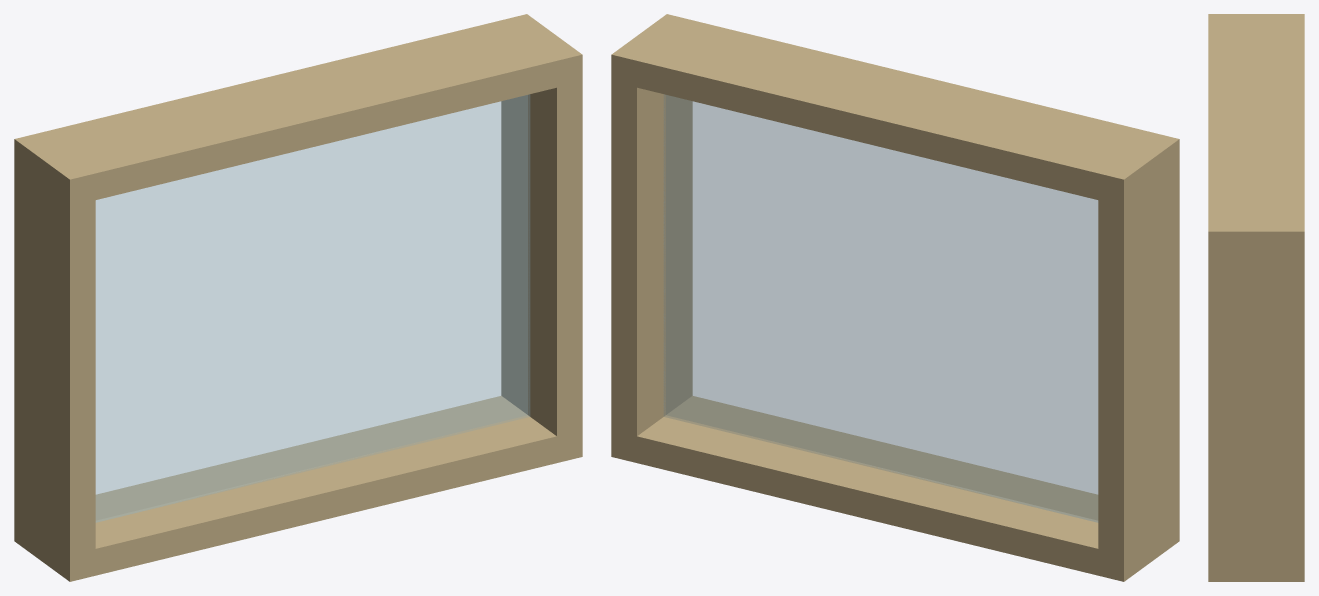
The model's file is janela_80x60.obj.
3 renders of one model, left to right at view 1: azimuth 30°, elevation 25°; view 2: azimuth 150°, elevation 25°; view 3: azimuth 270°, elevation 25°, orthographic. The views are drawn at different scales.
Parts seen in each view (by area): view 1: janela_80x60; view 2: janela_80x60; view 3: janela_80x60.
Boxes of the visible parts, bbox=[...] form: janela_80x60: bbox=[14, 14, 582, 581]; janela_80x60: bbox=[611, 14, 1179, 581]; janela_80x60: bbox=[1208, 14, 1304, 581].
Bounding box in the file's own units: 0.8 × 0.6 × 0.15.
